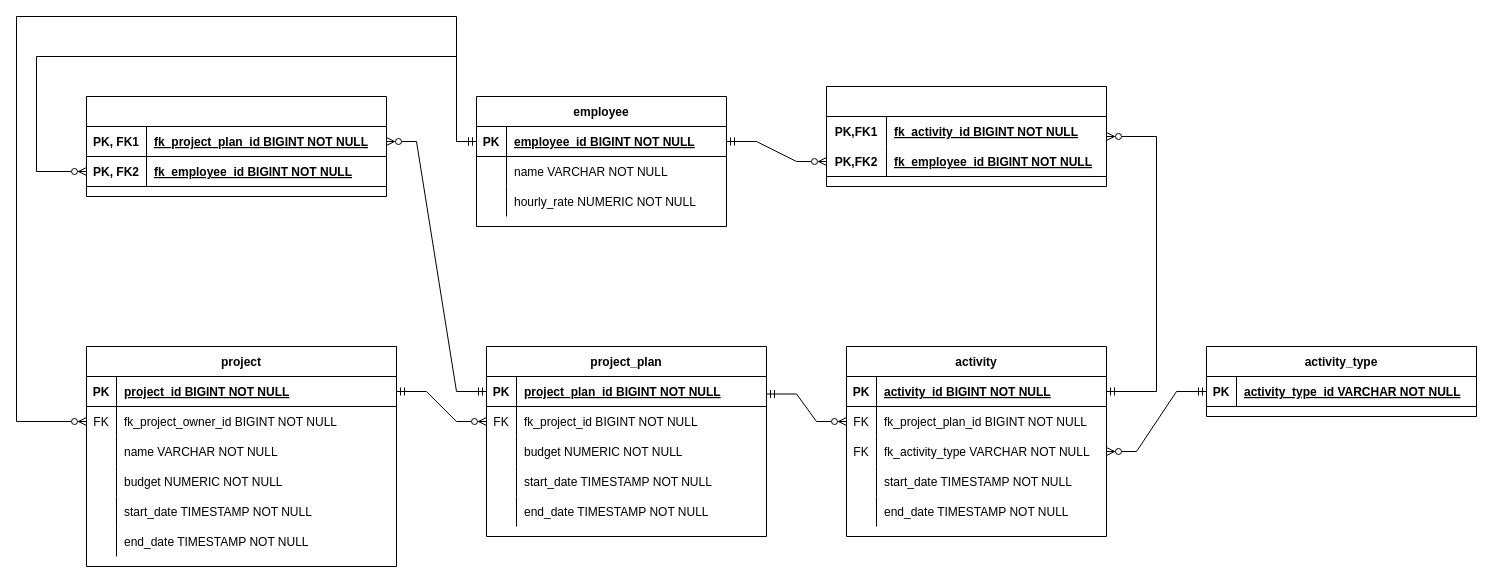
Some shapes in this 1493 by 583 pixel diagram are drawn without their labels. The shapes that lost their labels are listed below. From the top down, each one's box as (x1, y1, x2, y2) in pixels, then its label:
(86, 96, 386, 196): project_plan_employee
(826, 86, 1106, 186): activity_employee
